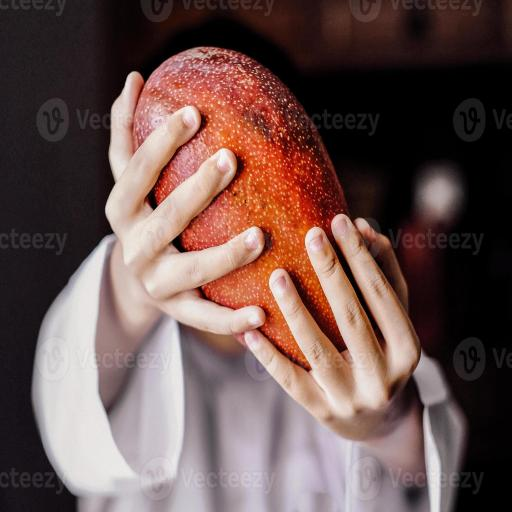mango: (134, 48, 347, 368)
